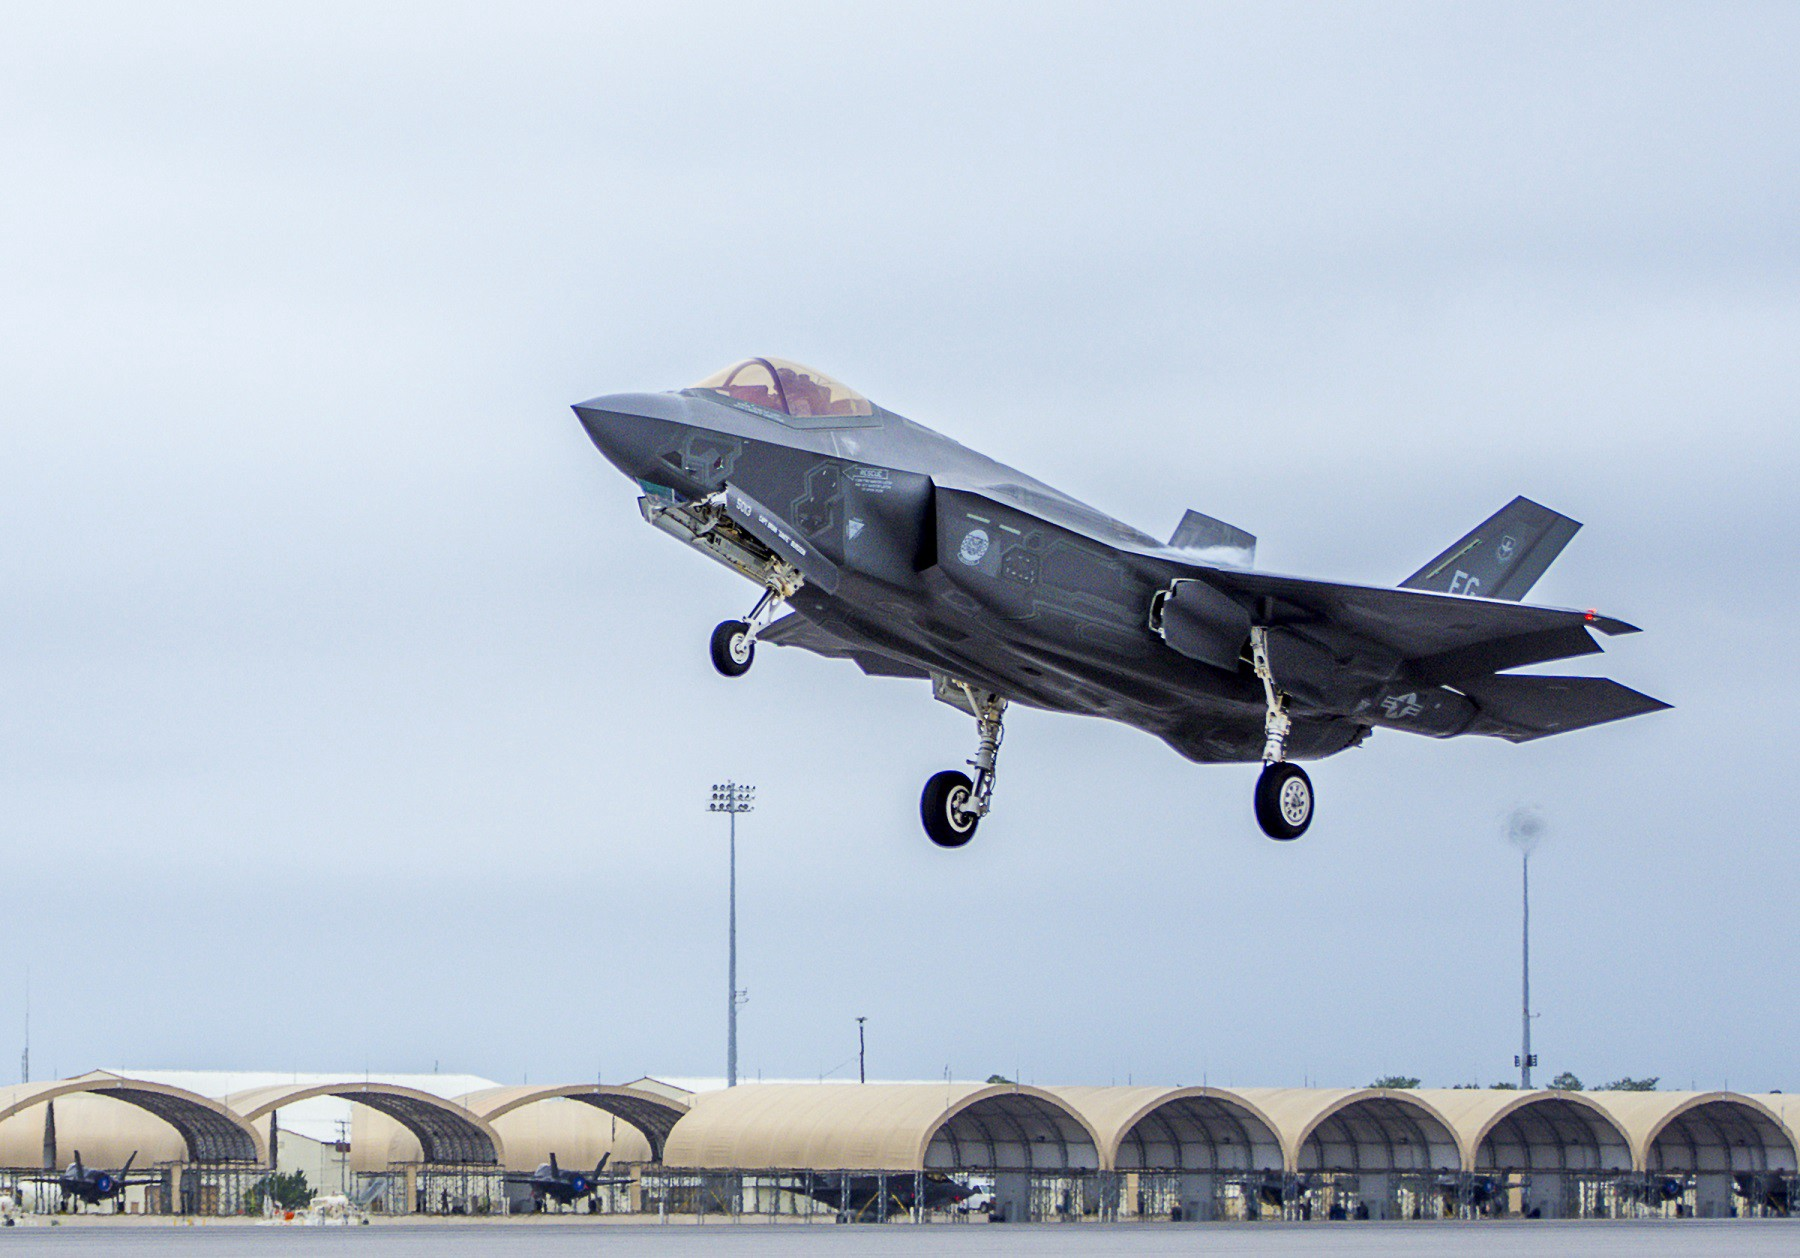F-35 Lightning: (490, 260, 1706, 907), (16, 1134, 175, 1227), (795, 1164, 989, 1218), (516, 1145, 624, 1222), (1470, 1169, 1520, 1214)
